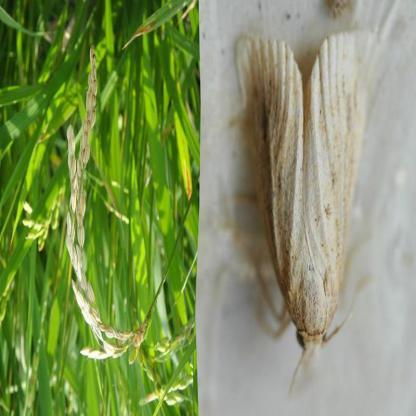stem-borer: (232, 31, 369, 374)
